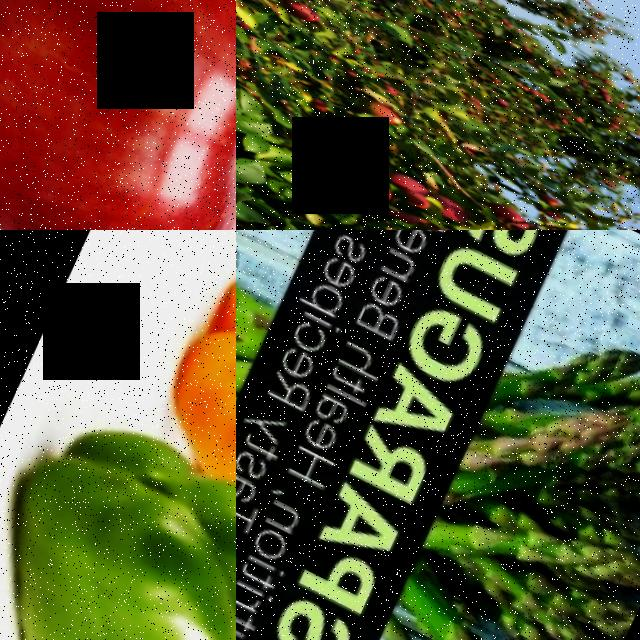apple: (0, 0, 236, 230), (299, 130, 366, 177), (349, 156, 408, 201), (481, 180, 539, 222), (428, 180, 478, 218), (386, 156, 439, 191), (362, 85, 414, 120), (282, 0, 324, 21)
asparagus: (347, 256, 640, 640)
bell pepper: (0, 401, 236, 640), (147, 230, 236, 579)
